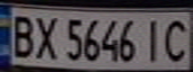4: (100, 16, 121, 63)
5: (60, 15, 84, 62)
6: (118, 16, 142, 63), (81, 16, 103, 62)
B: (6, 11, 39, 60)
C: (160, 16, 193, 64)
I: (139, 16, 169, 63)
X: (30, 12, 60, 61)
